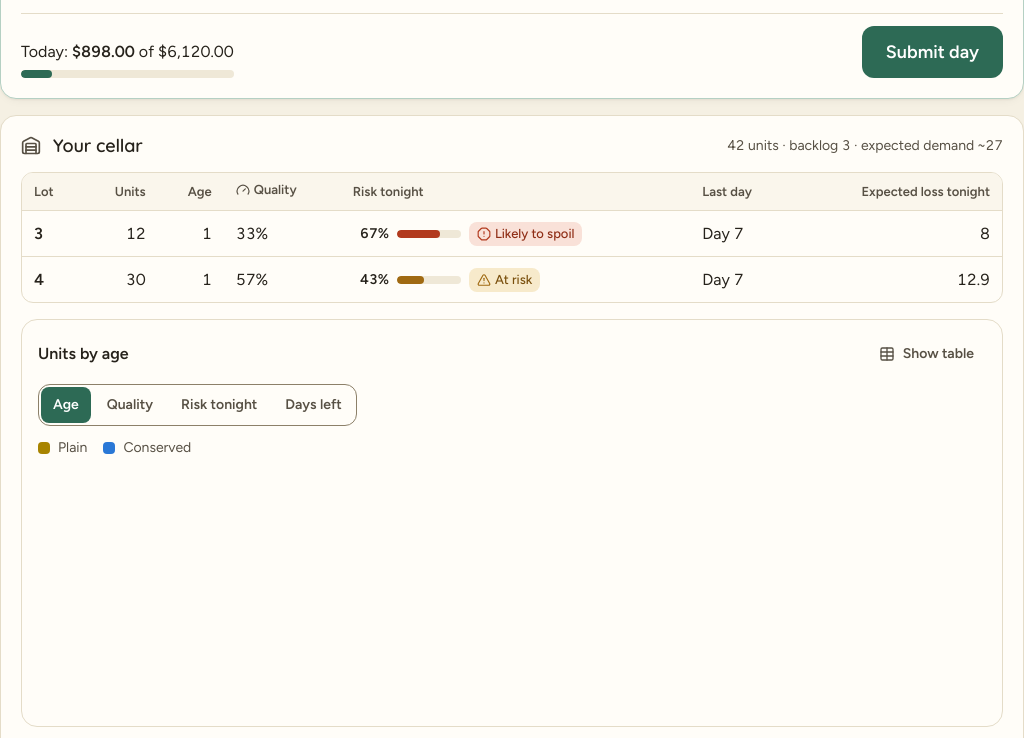
it: CellarChart by age › has a table view with the specified columns and a dash for a null risk
(page scrolled)
Click the button "Show table" at (926, 354), box [867,336,986,372]
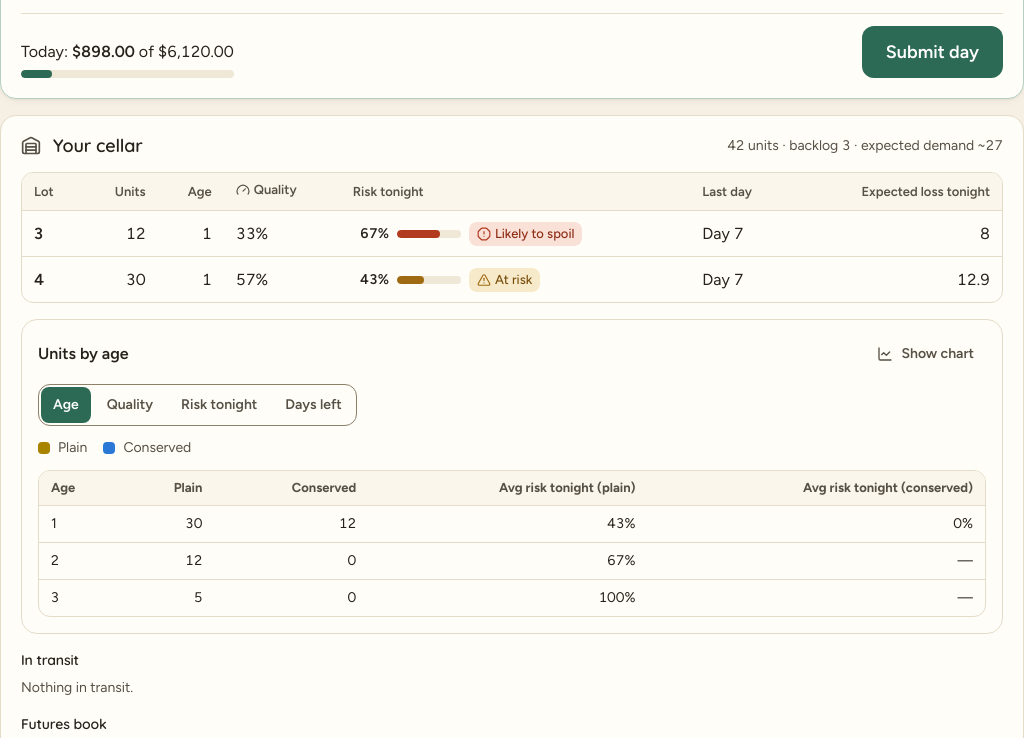
Check: the column headings read "Age", "Plain", "Conserved", "Avg risk tonight (plain)", "Avg risk tonight (conserved)", in this order, box [39,471,123,505]; [123,471,214,505]; [214,471,368,505]; [368,471,648,505]; [648,471,985,505]
